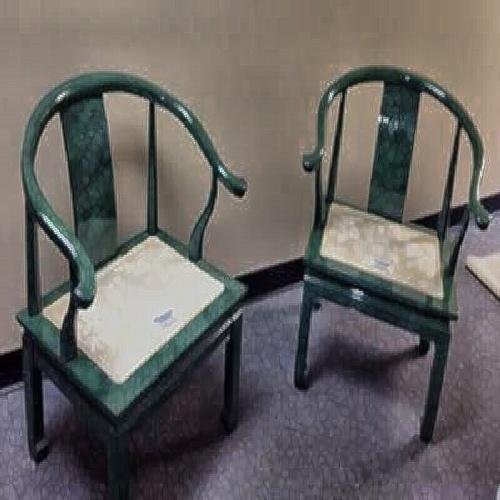chair: (26, 84, 252, 436), (312, 61, 480, 403)
